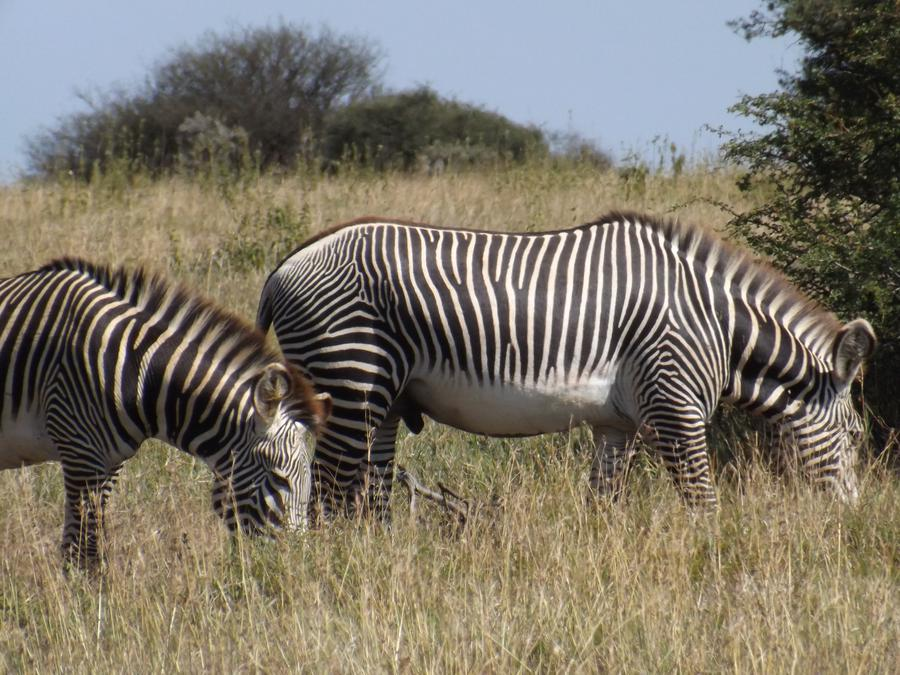zebra_grevys: (239, 192, 710, 431)
